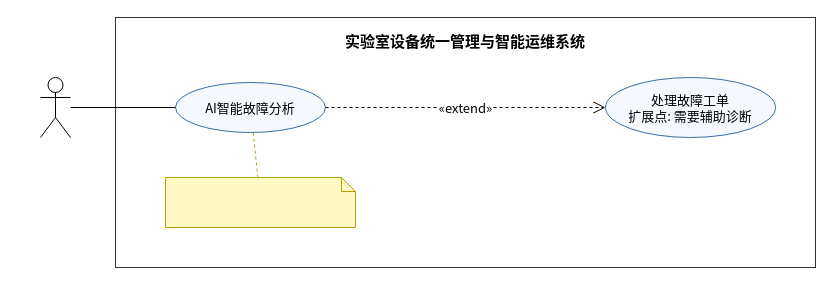
The diagram is 833 pixels wide and 285 high, and some of its shapes have lost their labels. Here are the shapes that lost their labels. From the top down, the centre of each, then its label:
the point at 55,107: AI Agent服务
the point at 260,202: 扩展点: 需要辅助诊断 条件: 运维人员请求AI辅助
